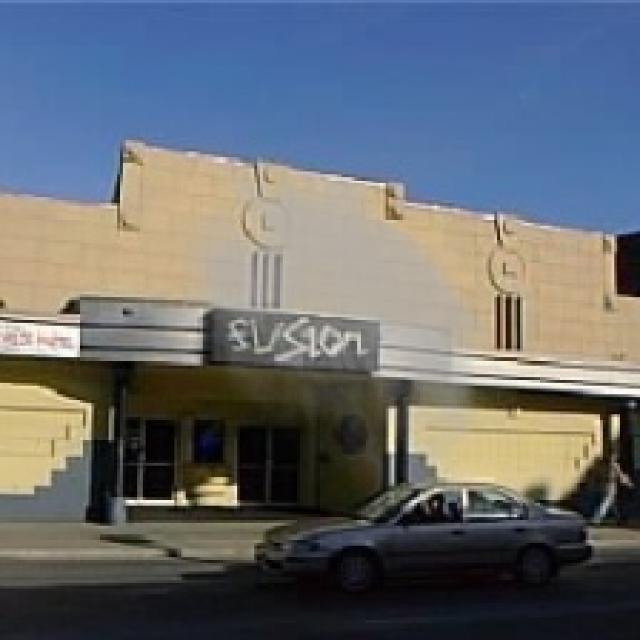Smoke: (160, 145, 529, 518)
